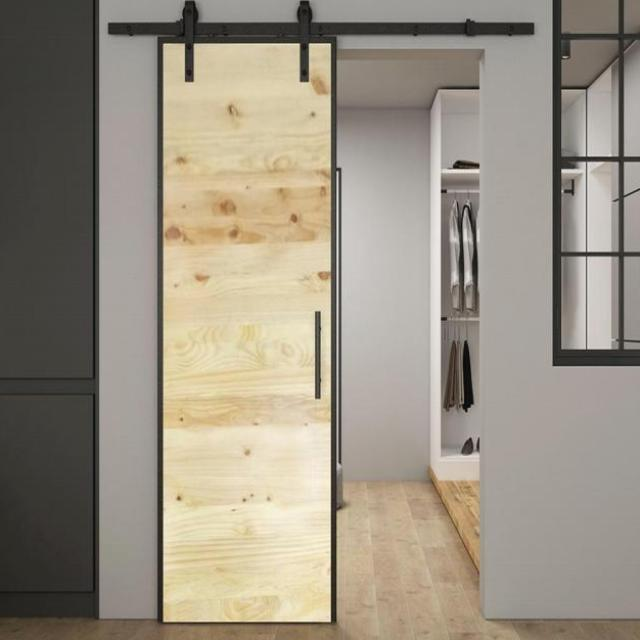door: (157, 35, 337, 623)
